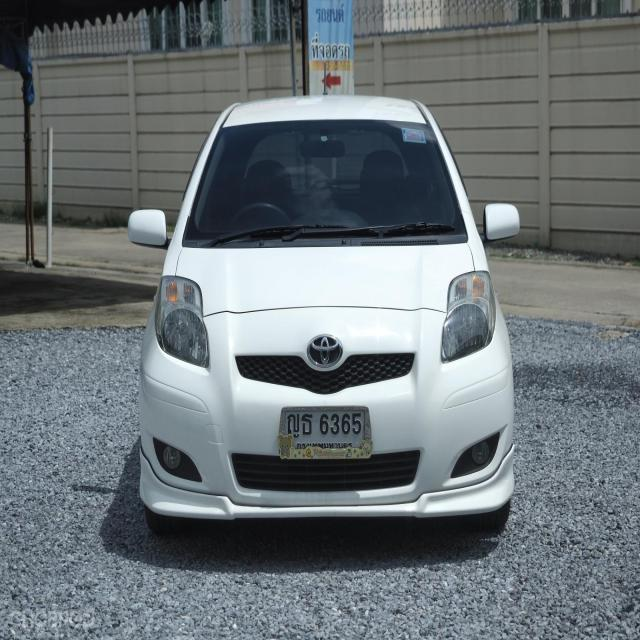license_plate: (276, 402, 376, 462)
